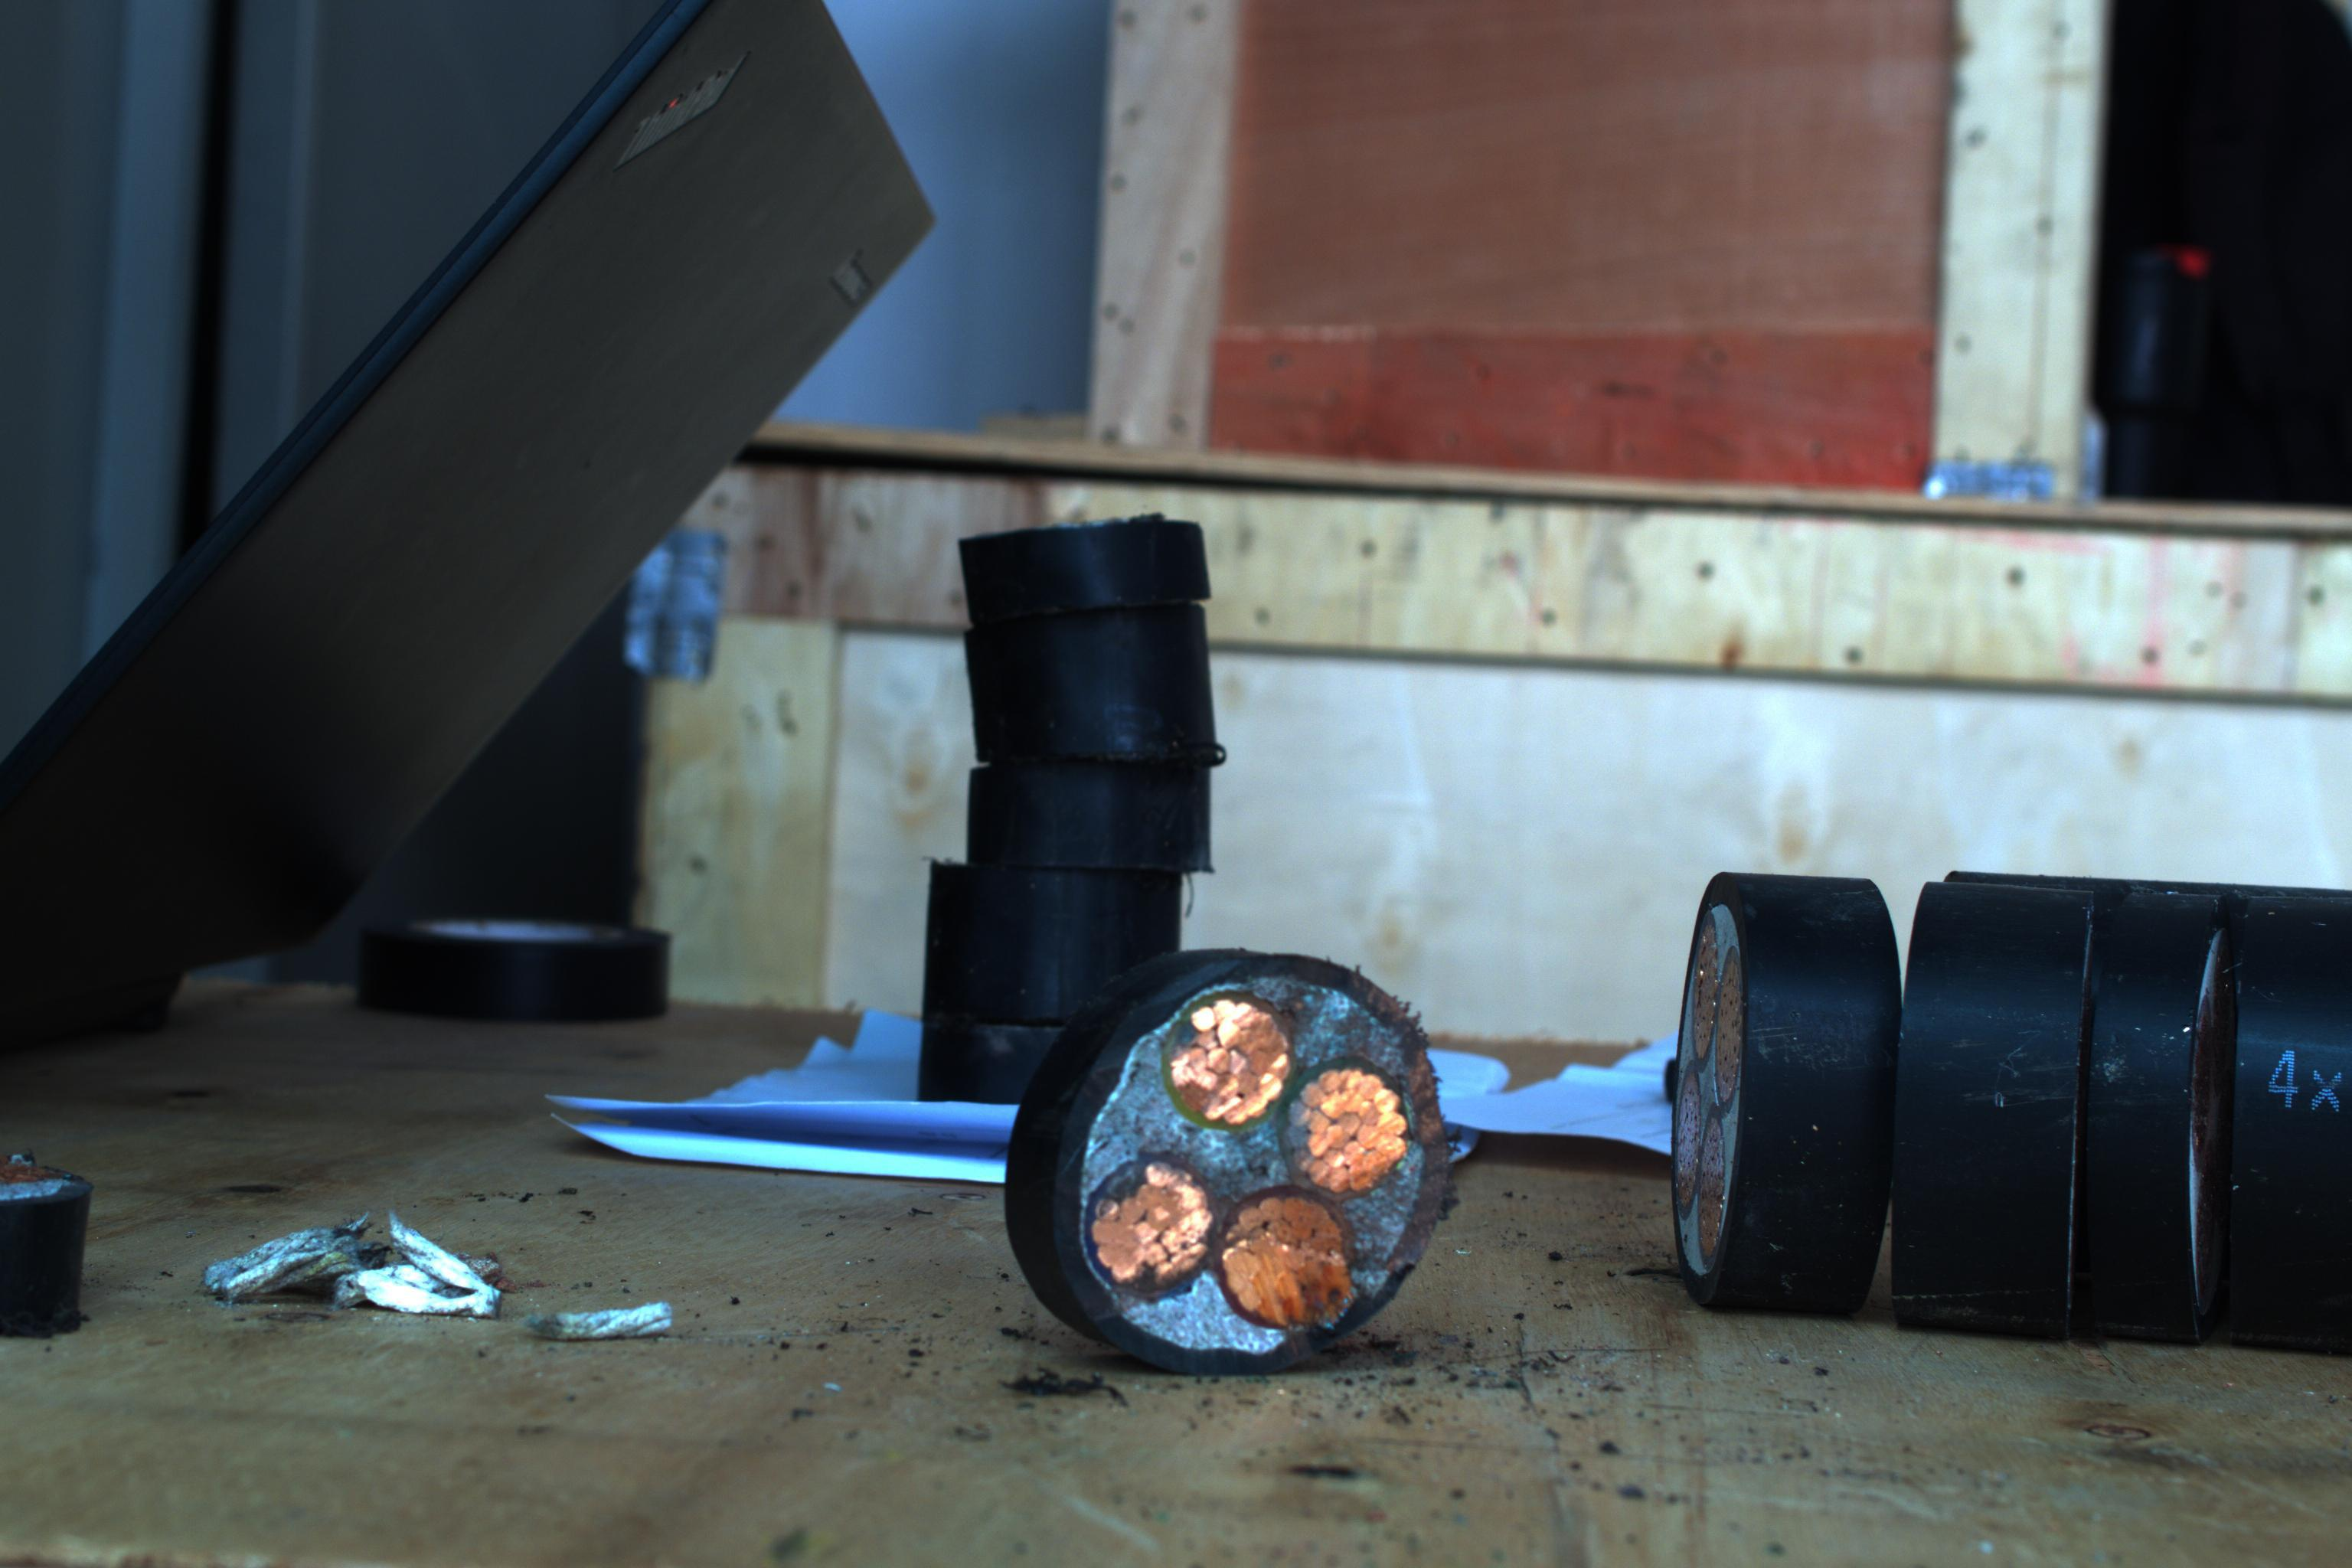YJV_0.6_1kV_4x120: (1059, 966, 1463, 1370)
